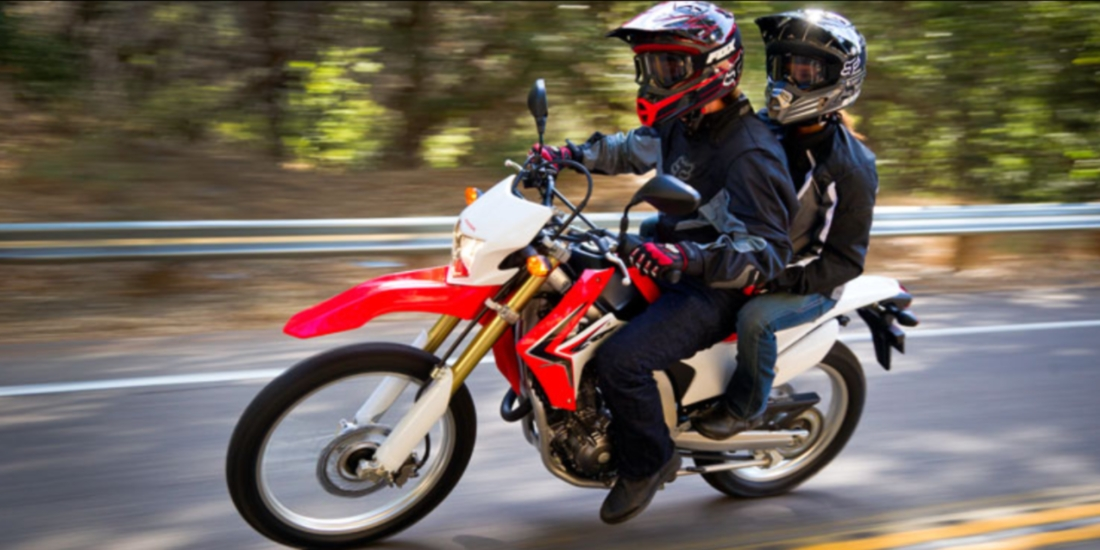helmet: (563, 4, 767, 246), (753, 9, 924, 270)
